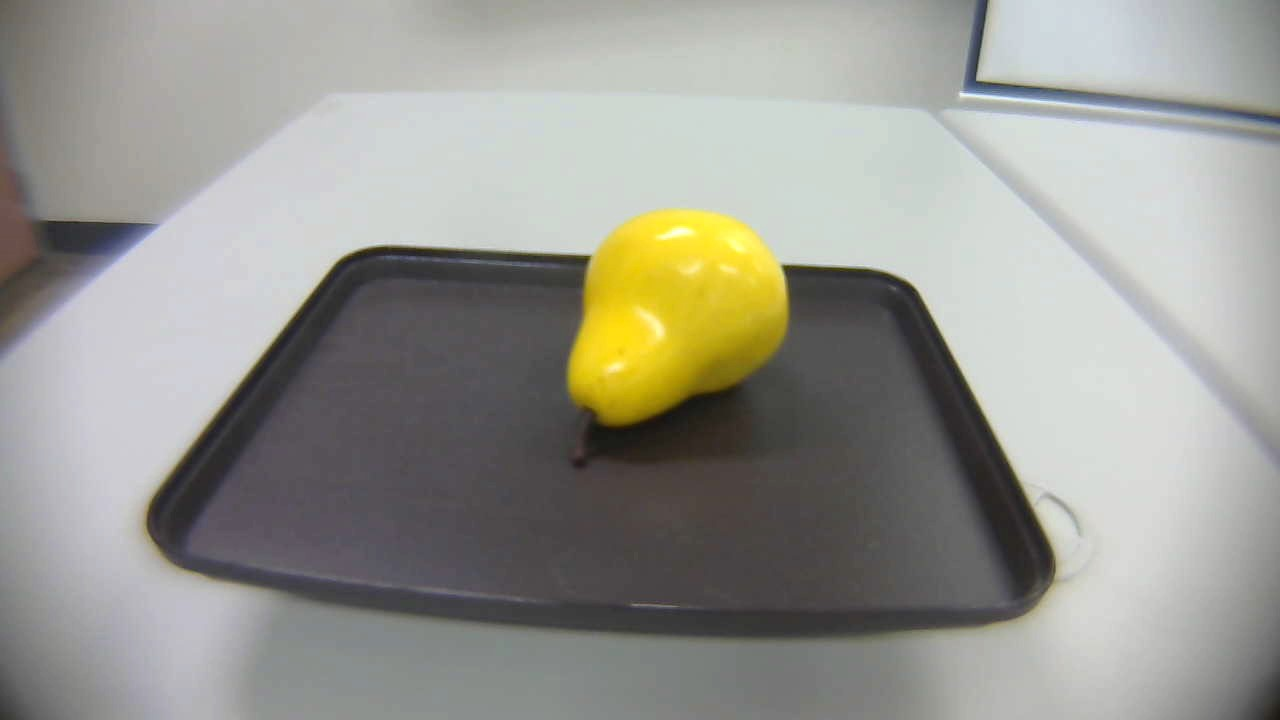yellow pear: (549, 200, 802, 469)
